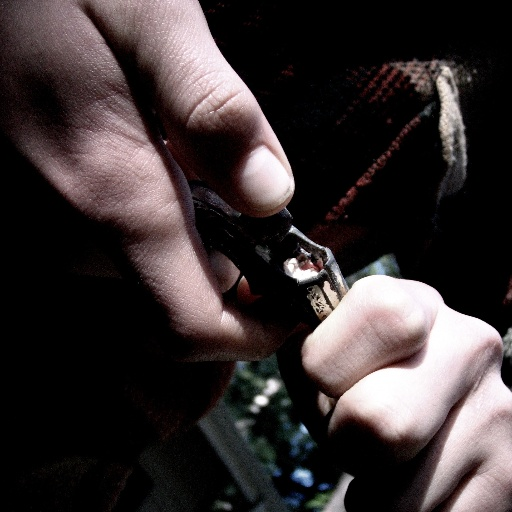hand: (0, 0, 306, 363), (297, 244, 509, 485)
